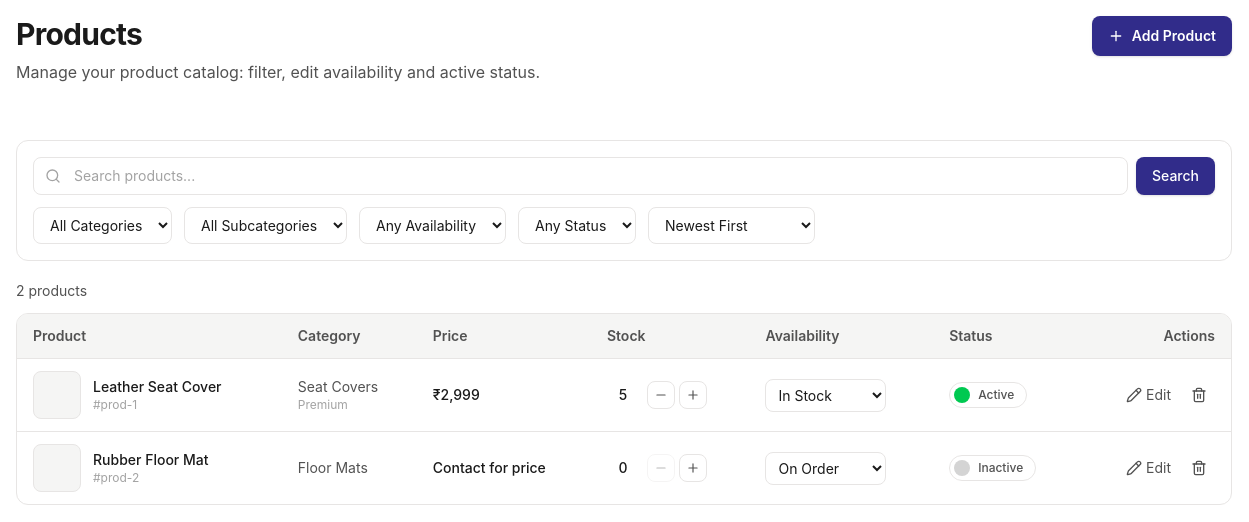
Test case: ProductsAdminPage › increments stock via PATCH and updates the row
Expected: the text "Leather Seat Cover" is shown, [93,377,222,397]
What coordinates should you click on to do the following:
click the button named "Increase stock for Leather Seat Cover"
I would click on:
 (693, 395)
Its box is [679,381,707,409].
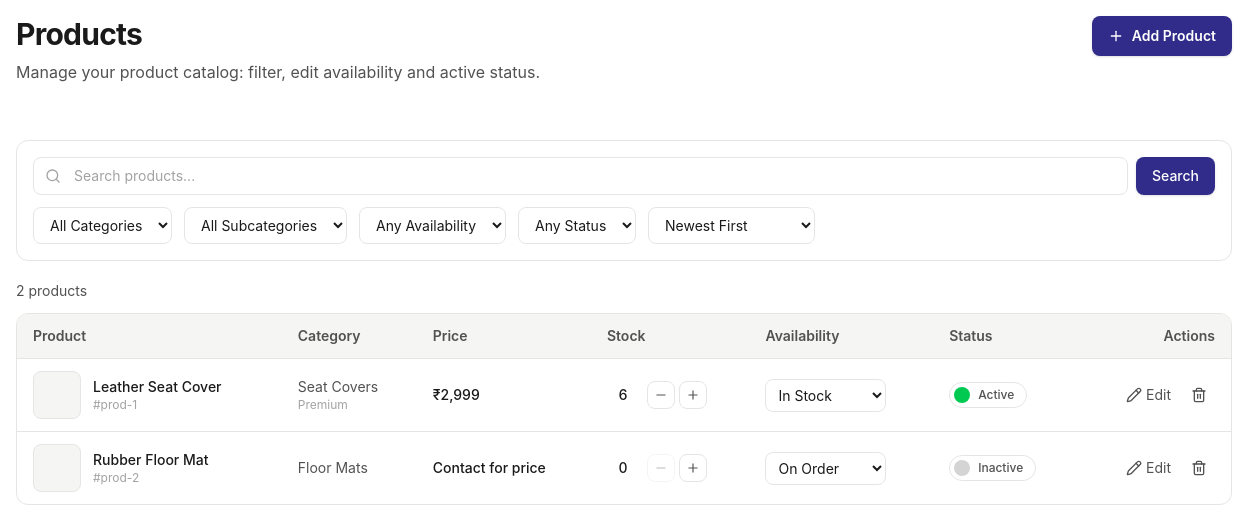
Result: the text named "Stock quantity for Leather Seat Cover" reads "6" at [618,386,628,403]
